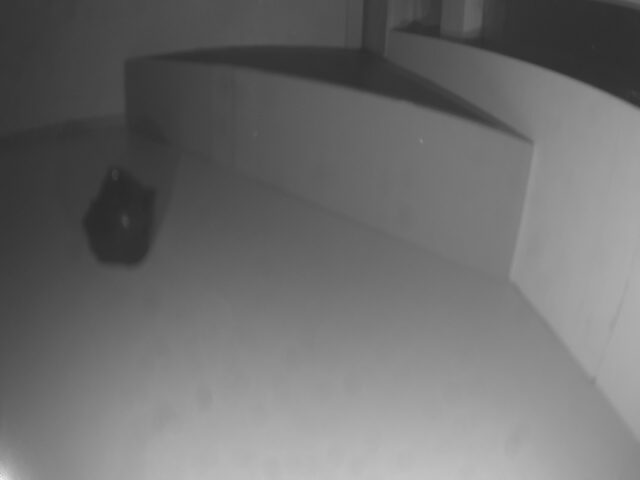Green: (122, 52, 537, 290)
